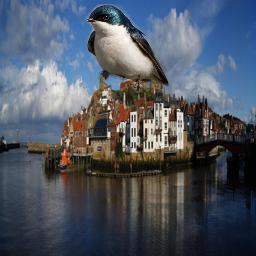Swallow: (87, 4, 171, 93)
